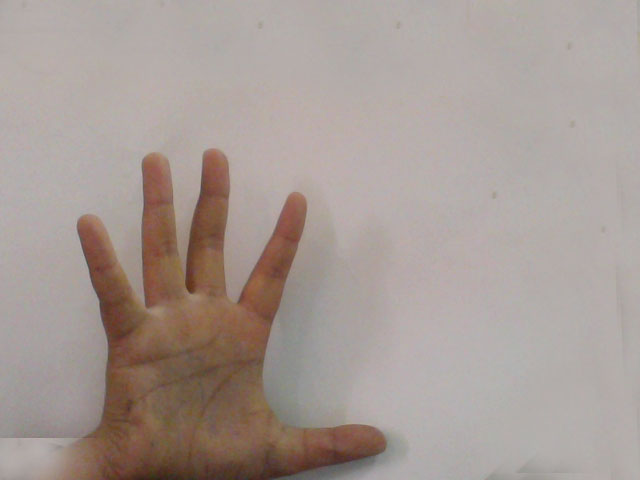hand: (67, 138, 399, 477)
